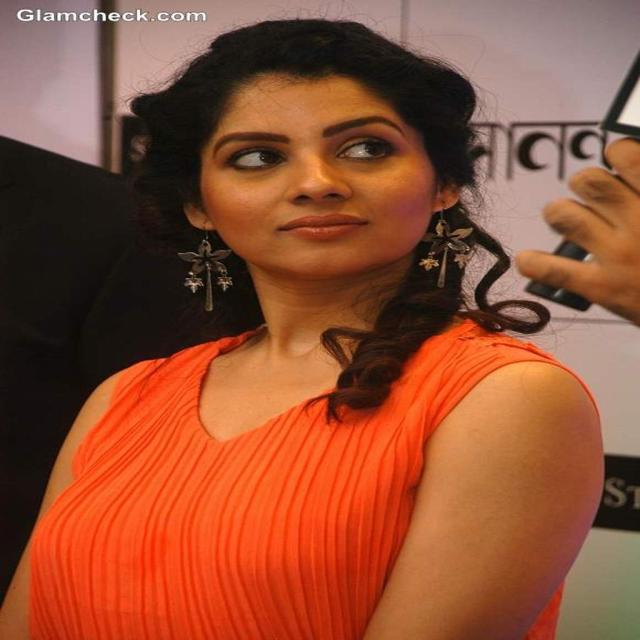Face: (172, 65, 482, 287)
